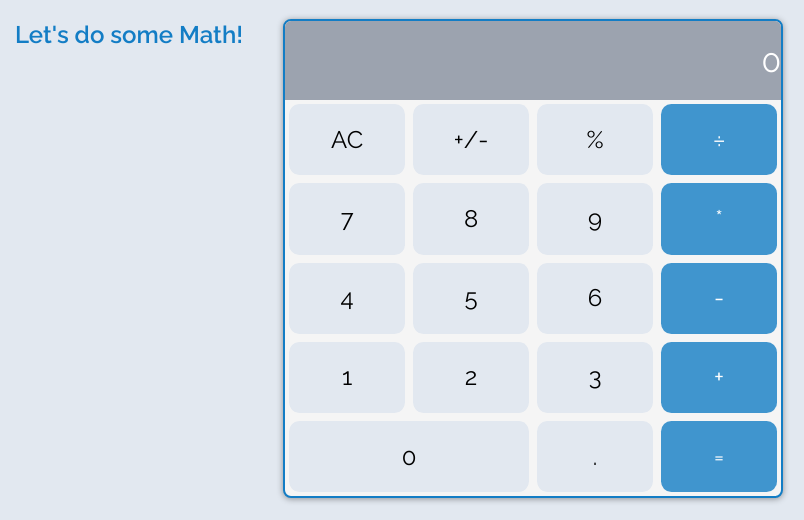
Test: Tests for Calculator component › Simulating simple user interaction 121 is printed on dislpay
Step 1. Click the button "1" → (347, 377), box [289,342,405,413]
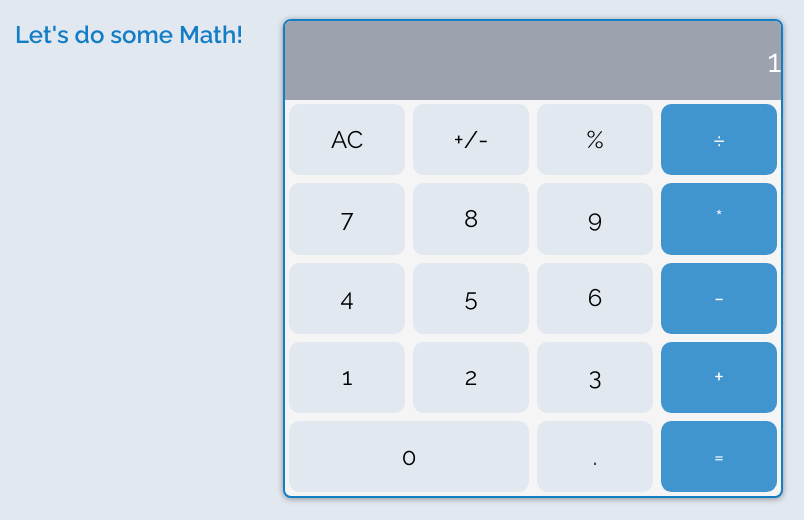
Step 2. Click the button "2" → (471, 377), box [413,342,529,413]
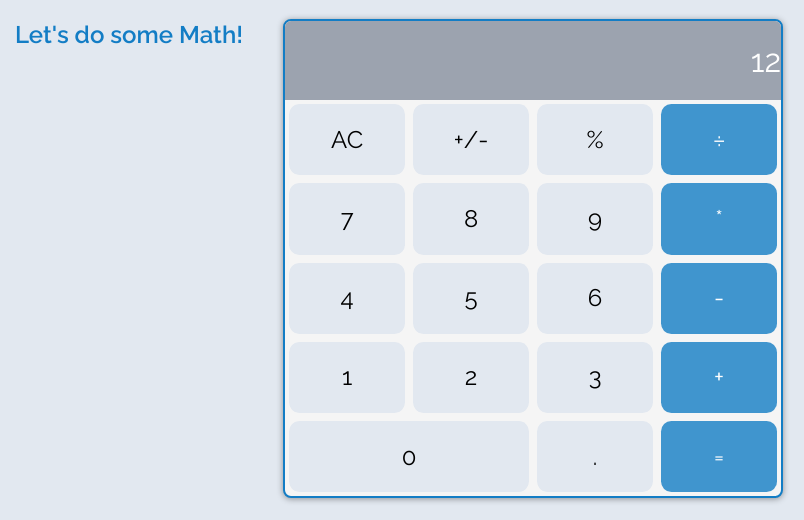
Step 3. Click the button "1" → (347, 377), box [289,342,405,413]
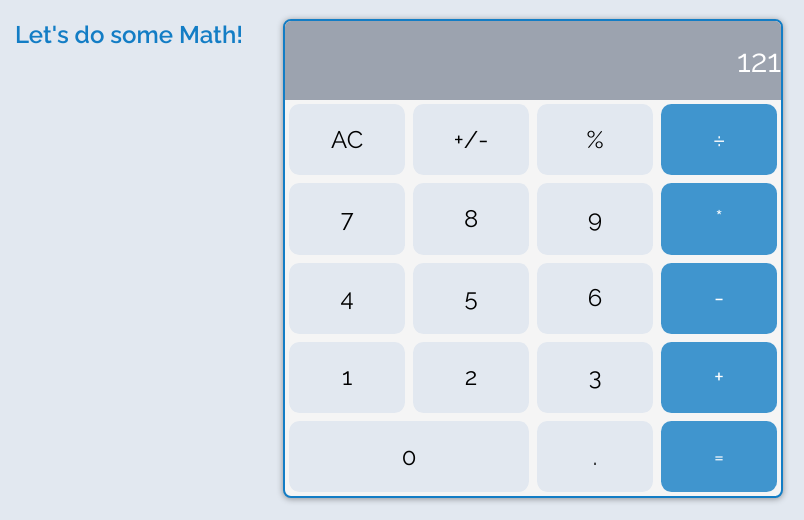
Now the text "121" is shown, box [285,21,781,100]
